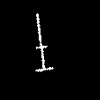double_crochet: (36, 14, 52, 71)
